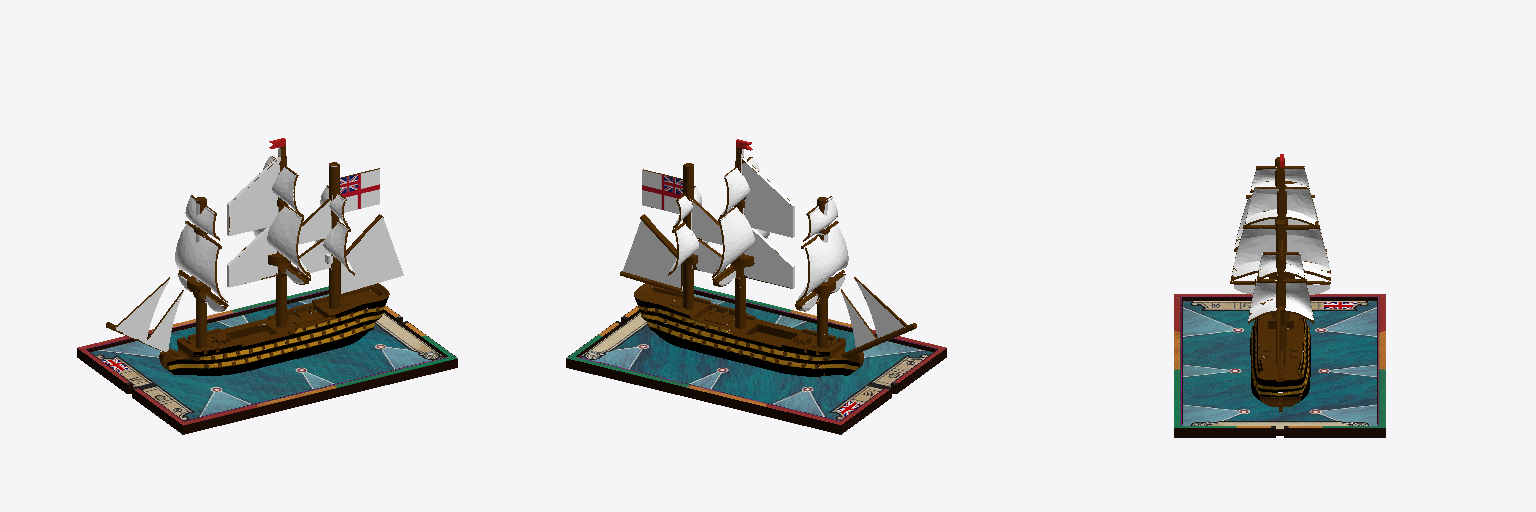
3 renders of one model, left to right at view 1: azimuth 30°, elevation 25°; view 2: azimuth 150°, elevation 25°; view 3: azimuth 270°, elevation 25°, orthographic.
Parts seen in each view (by area): view 1: SOG_3r_English.obj; view 2: SOG_3r_English.obj; view 3: SOG_3r_English.obj.
Boxes of the visible parts, x1=… form: SOG_3r_English.obj: x1=77, y1=138, x2=457, y2=434; SOG_3r_English.obj: x1=566, y1=139, x2=946, y2=434; SOG_3r_English.obj: x1=1174, y1=154, x2=1385, y2=437.
Size of the model in its own units: 7.09 by 4.96 by 4.36.
Materials: 2 (2 with a texture image).